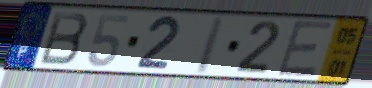2: (134, 13, 183, 74), (233, 19, 284, 76)
5: (85, 13, 131, 68)
B: (36, 10, 91, 67)
E: (274, 18, 336, 80)
I: (191, 14, 228, 76)
